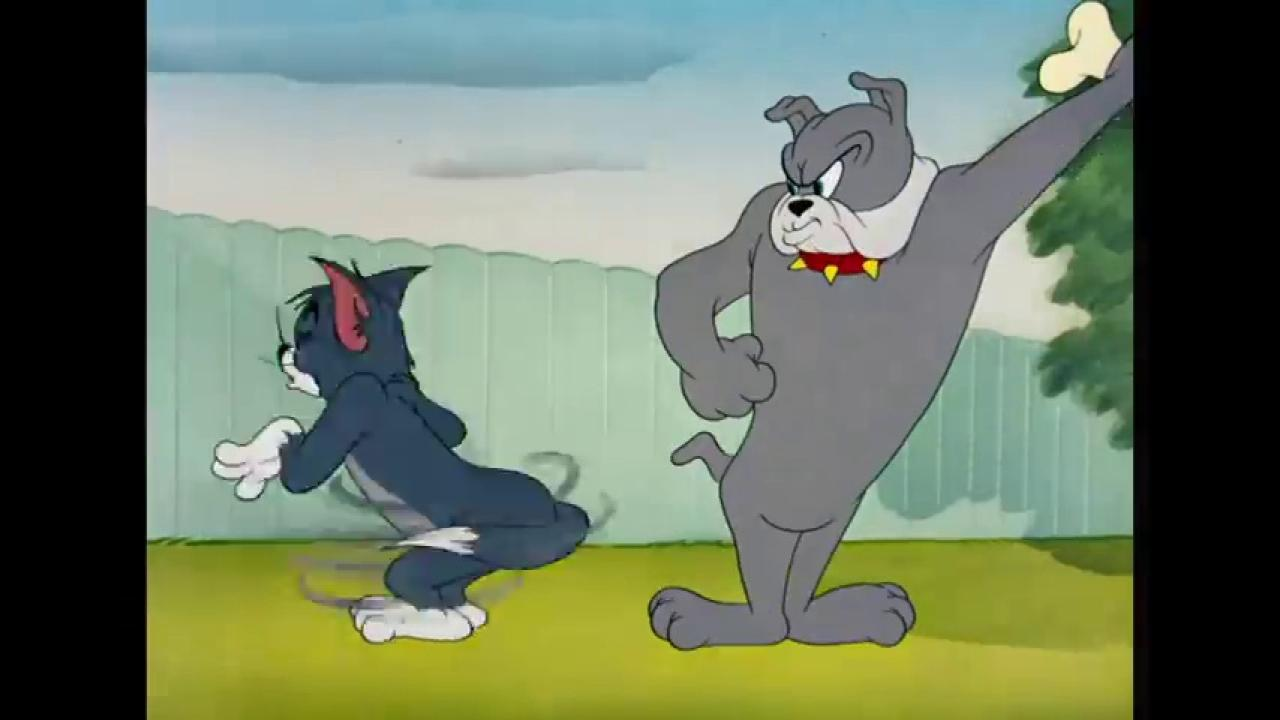Tom: (208, 249, 592, 645)
